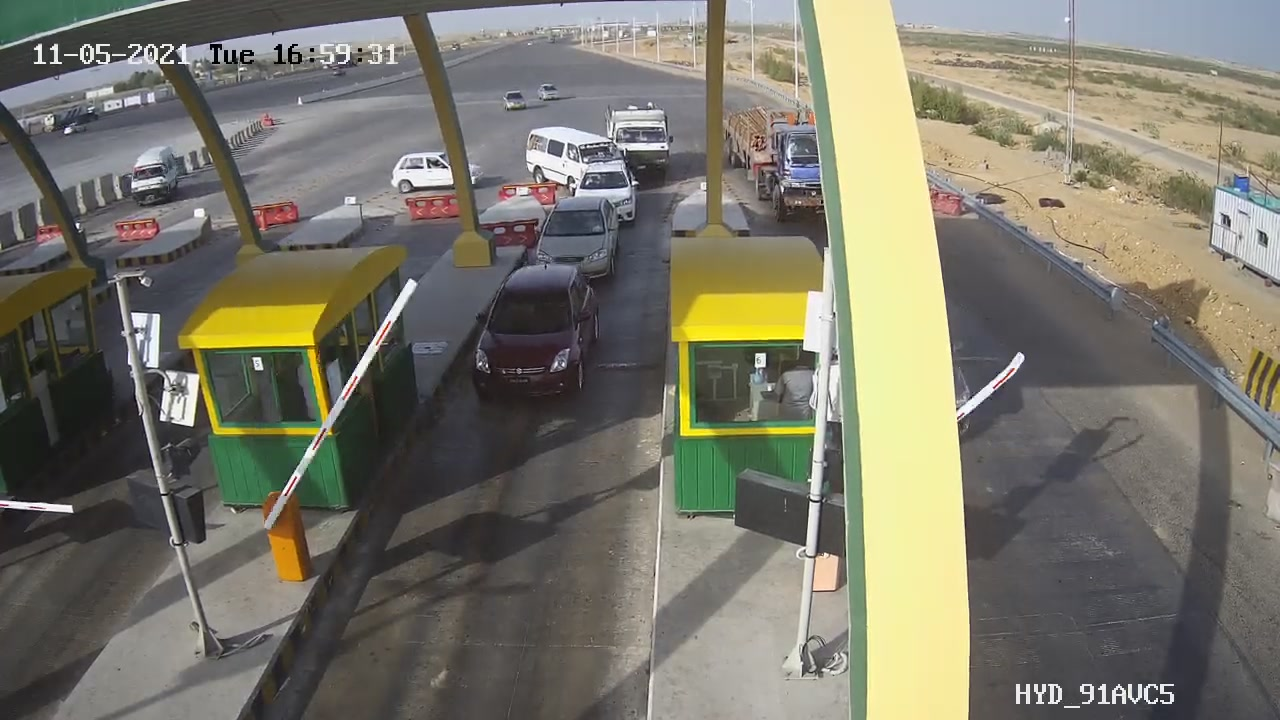F1: (454, 251, 622, 411), (518, 190, 637, 290)
